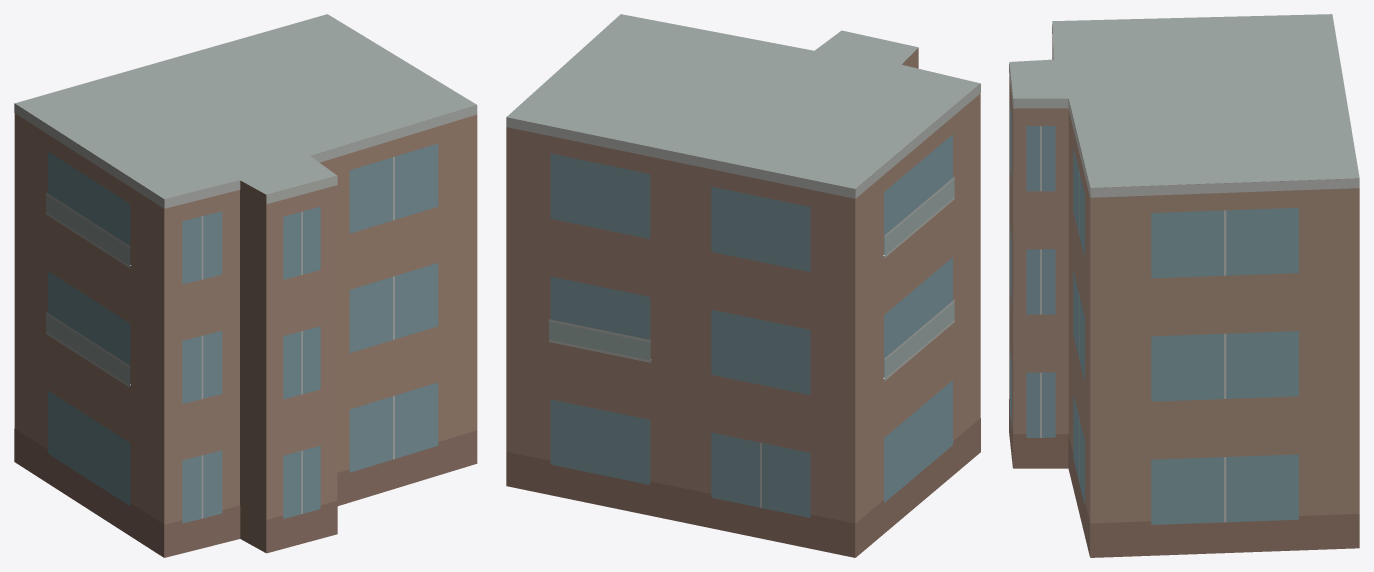
The model's file is survey-upis-32521156.glb.
3 renders of one model, left to right at view 1: azimuth 30°, elevation 25°; view 2: azimuth 150°, elevation 25°; view 3: azimuth 270°, elevation 25°, orthographic. The views are drawn at different scales.
Parts seen in each view (by area): view 1: survey-upis-32521156.tmp; view 2: survey-upis-32521156.tmp; view 3: survey-upis-32521156.tmp.
Boxes of the visible parts, x1,y1,x2,y2 form: survey-upis-32521156.tmp: (14,14,477,557); survey-upis-32521156.tmp: (506,14,980,557); survey-upis-32521156.tmp: (1009,14,1359,557).
Bounding box in the file's own units: 9.23 × 9.15 × 7.87.
